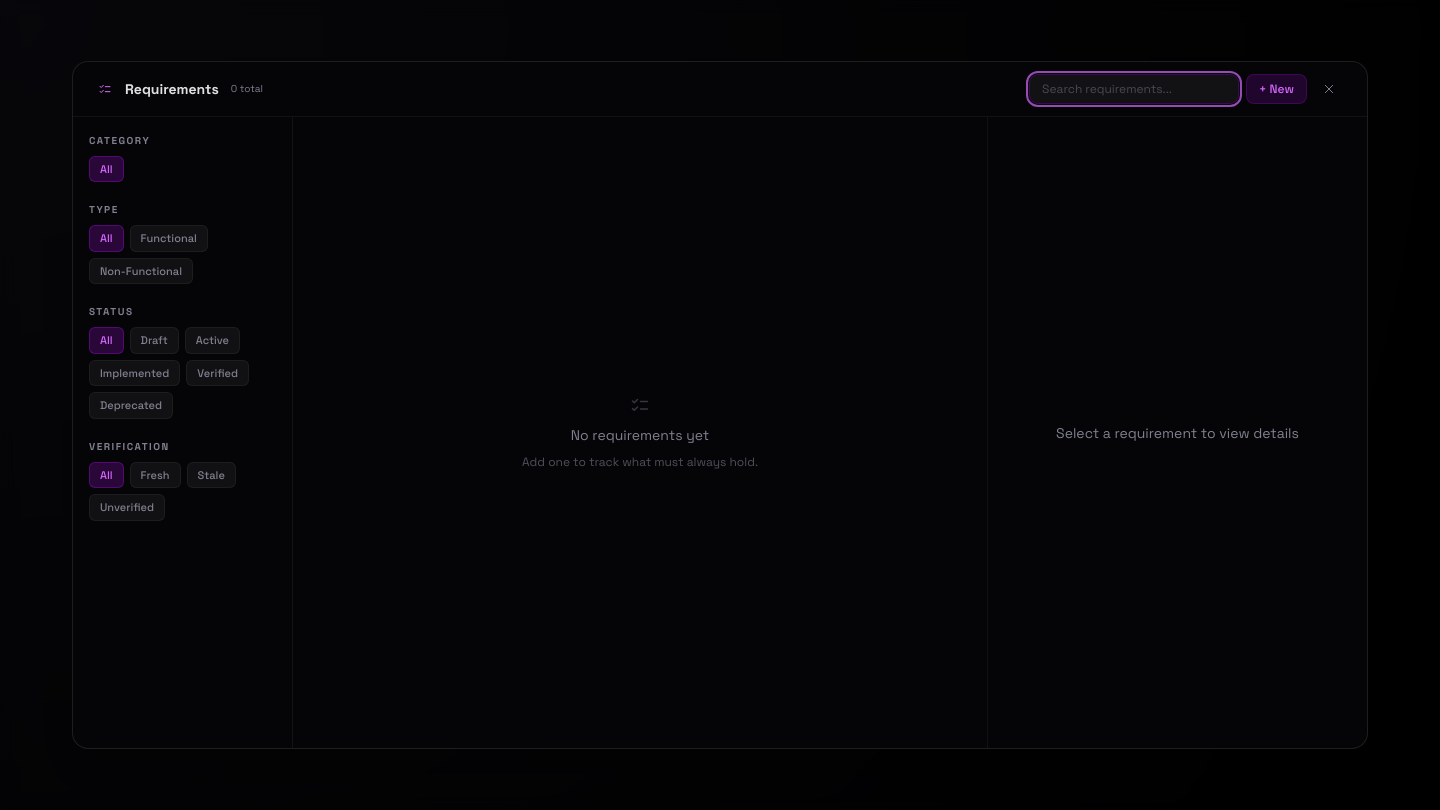
Scenario: RequirementsModal › Escape while creating closes only the create dialog
Click the button with test id "requirements-create-btn" at (1276, 89), box [1246,74,1307,104]
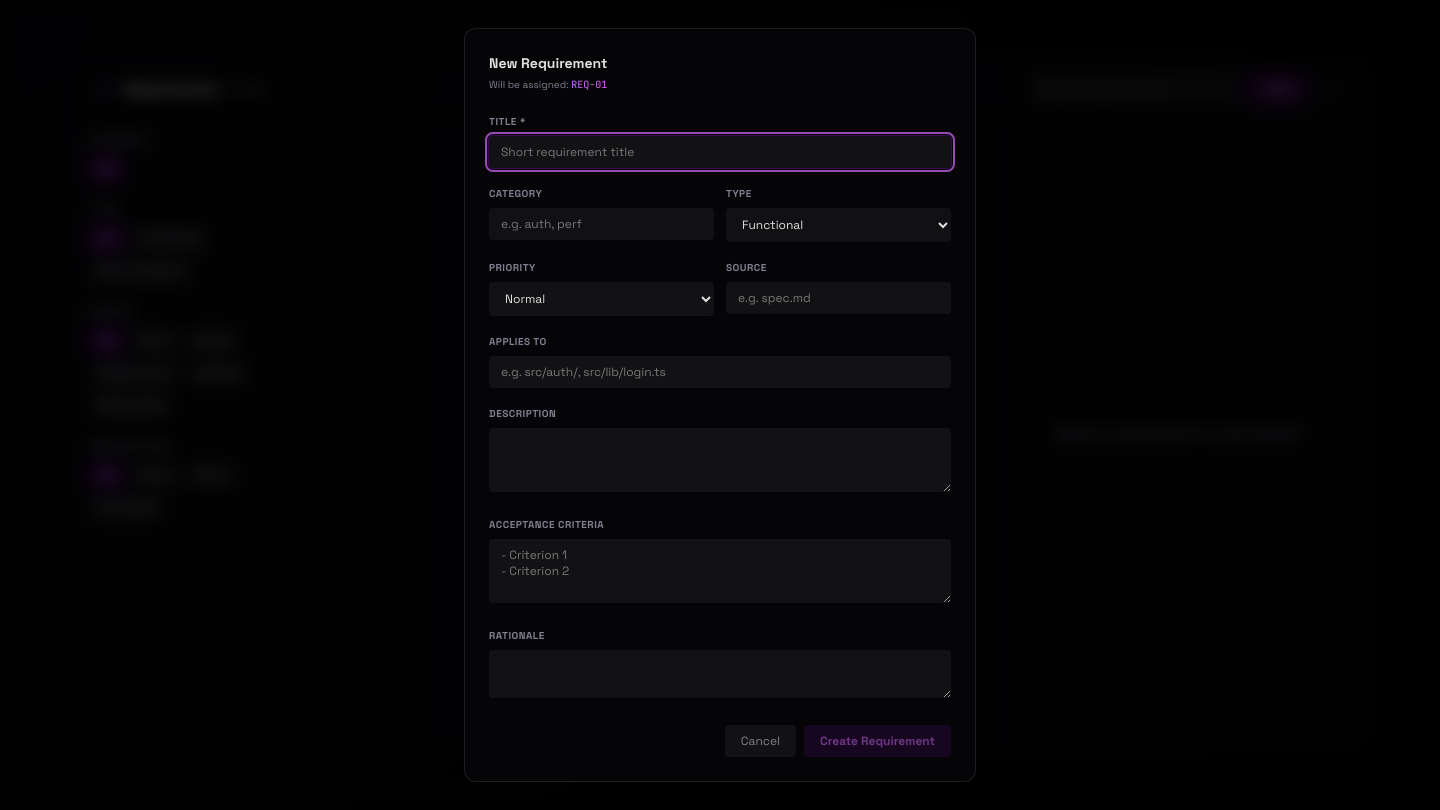
Now the element with test id "requirement-create-dialog" is shown
Press Escape
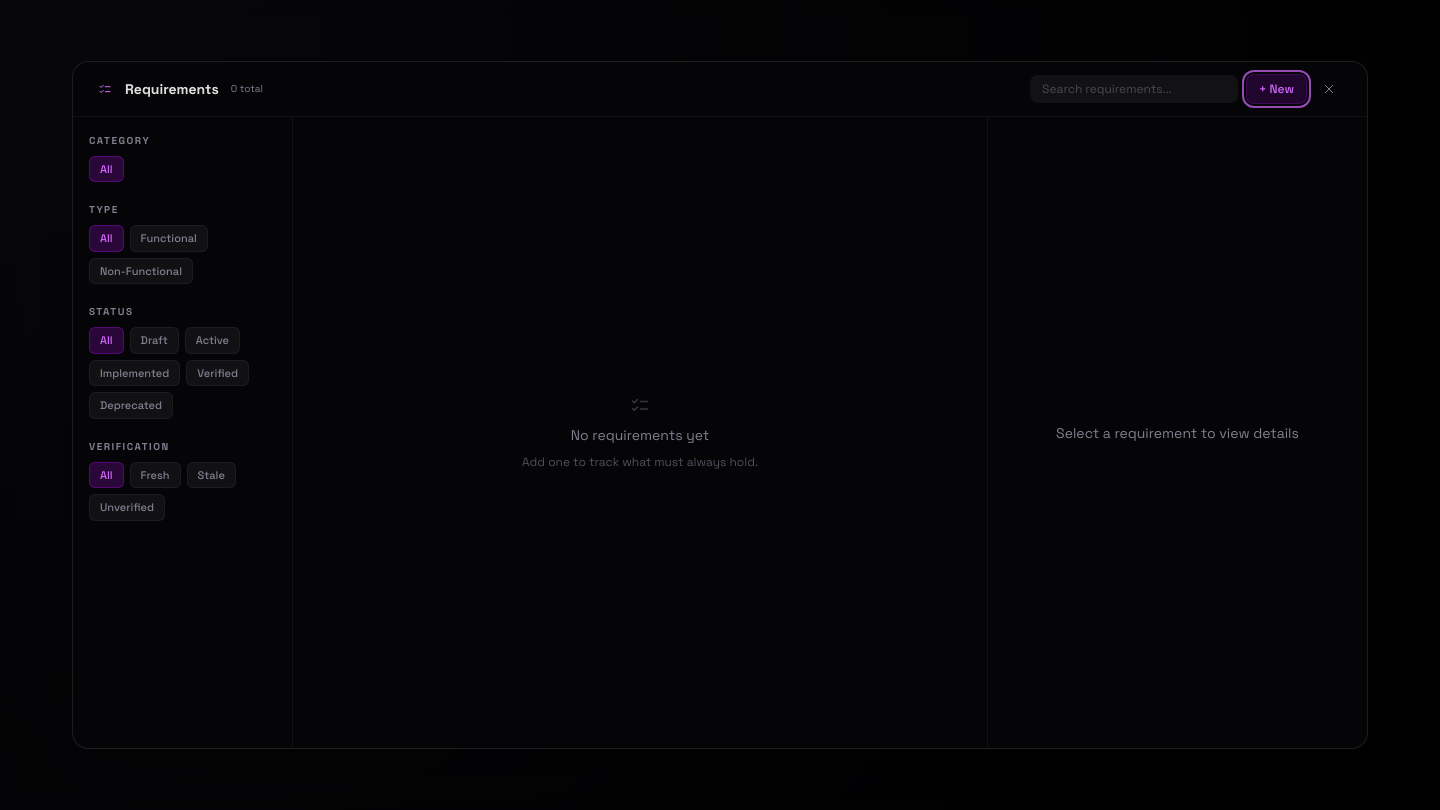
Now the element with test id "requirement-create-dialog" is gone
